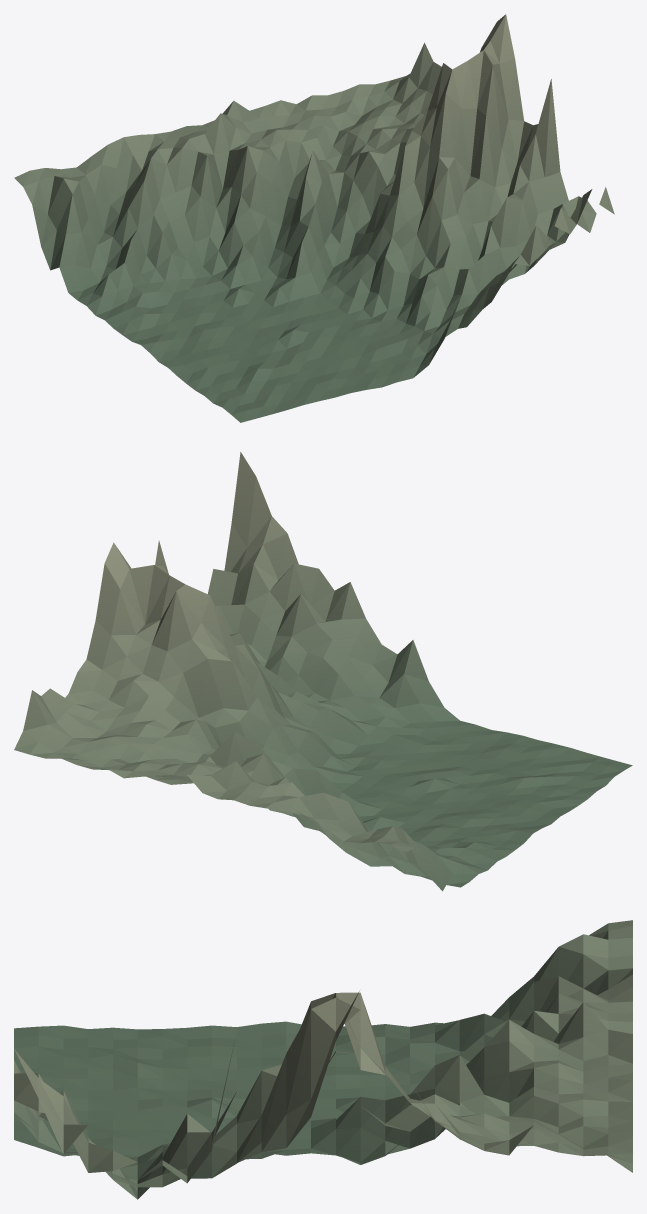
The model's file is tile_1_2.glb.
The picture shows the model from 3 angles, top to bottom: view 1: azimuth 30°, elevation 25°; view 2: azimuth 150°, elevation 25°; view 3: azimuth 270°, elevation 25°; orthographic projection. The views are drawn at different scales.
Parts seen in each view (by area): view 1: geometry_0; view 2: geometry_0; view 3: geometry_0.
Boxes of the visible parts, x1=… form: geometry_0: x1=14, y1=14, x2=614, y2=422; geometry_0: x1=14, y1=452, x2=632, y2=891; geometry_0: x1=14, y1=920, x2=632, y2=1199.
Size of the model in its own units: 123 by 65.97 by 123.
